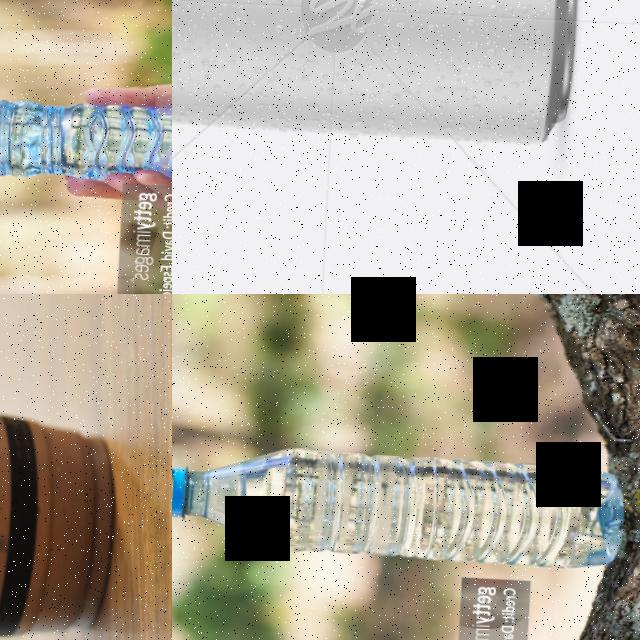bottle: (172, 439, 630, 571), (0, 87, 172, 189)
can: (172, 0, 587, 149)
cup: (0, 322, 127, 640)
